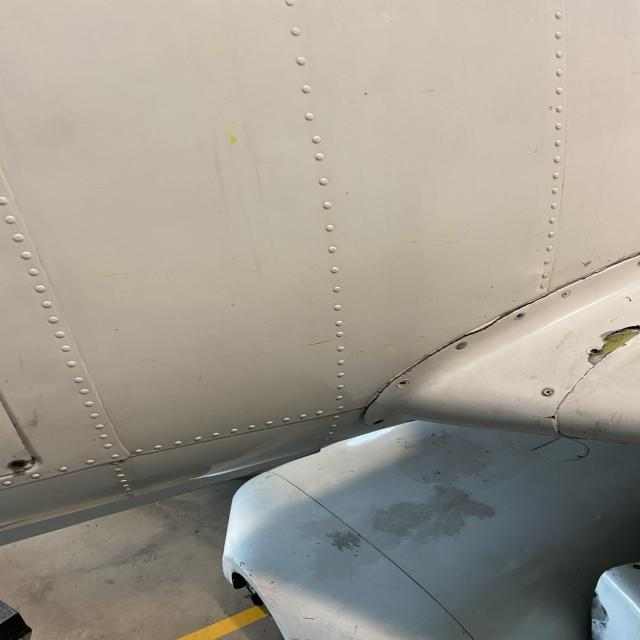Missing Fastener: (396, 378, 408, 388), (514, 312, 524, 320), (371, 419, 383, 425)
